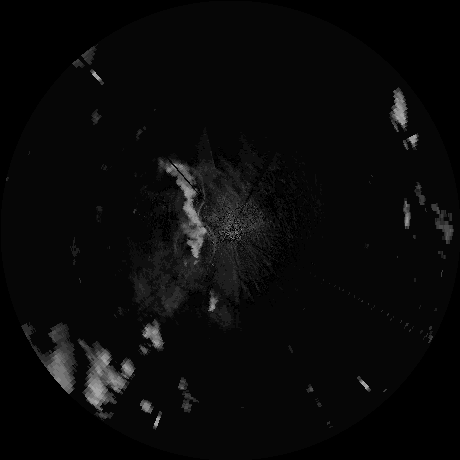frontgust: (193, 163, 207, 214), (207, 223, 217, 266), (171, 230, 184, 260)
